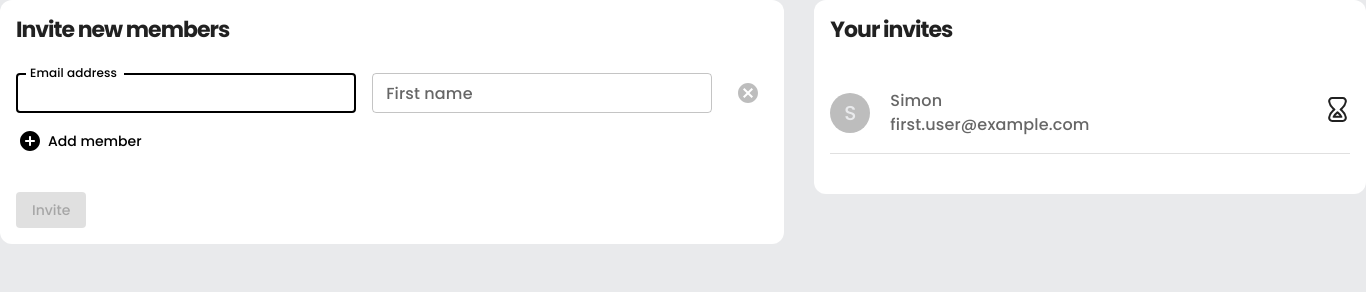
Test: Page: Invite Members › new invites are added to list
Check: the text "first.user@example.com" is shown, box 890,113 -> 1090,136
Check: the text "someonenew@example.com" is not shown
Type "someonenew@example.com" into the field with test id "textfield_members.0.email".
click(186, 93); type("someonenew@example.com")  # box 16,73 -> 356,113
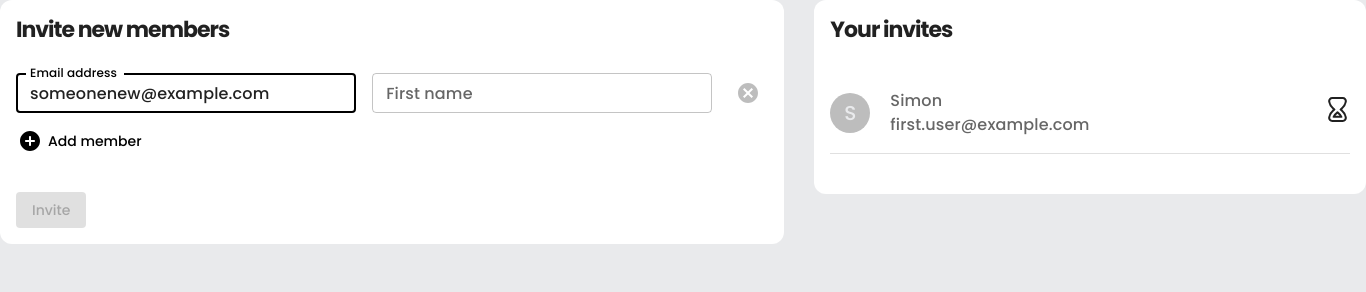
Type "Harry" into the field with test id "textfield_members.0.first_name".
click(542, 93); type("Harry")  # box 372,73 -> 712,113
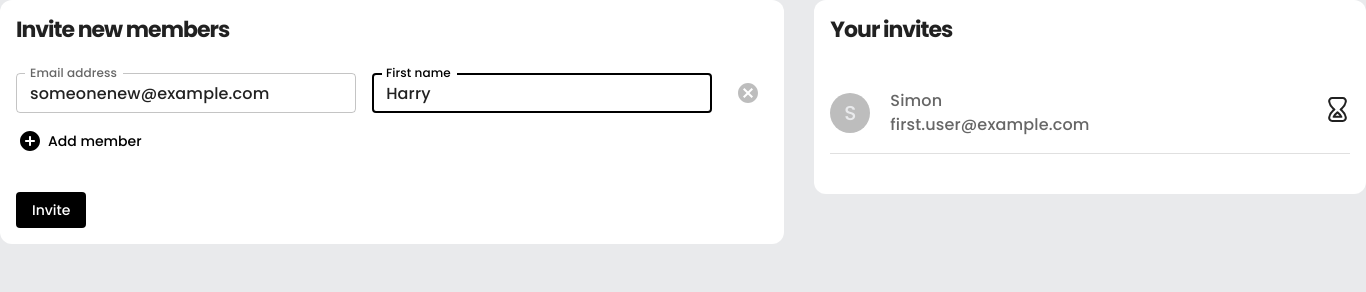
Click the button with test id "invite-submit".
click(51, 210)  # box 16,192 -> 86,228
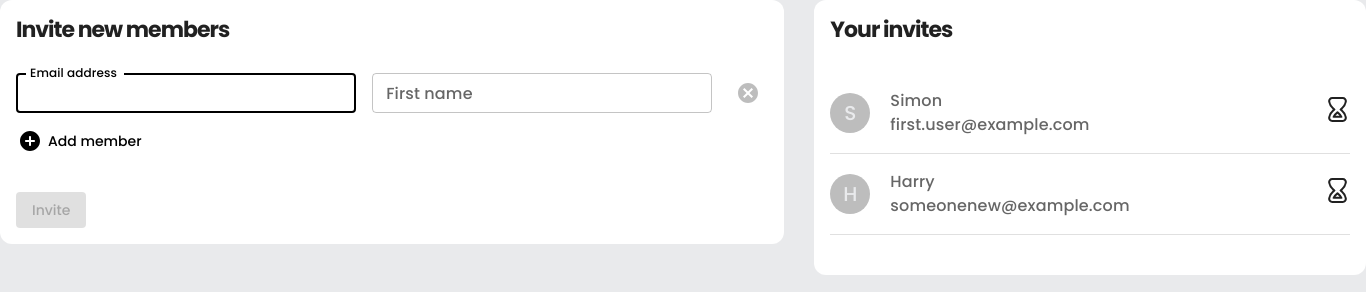
Check: the text "someonenew@example.com" is shown, box 890,194 -> 1130,217
Check: the field with test id "textfield_members.0.email" is empty, box 16,73 -> 356,113
Check: the field with test id "textfield_members.0.first_name" is empty, box 372,73 -> 712,113
